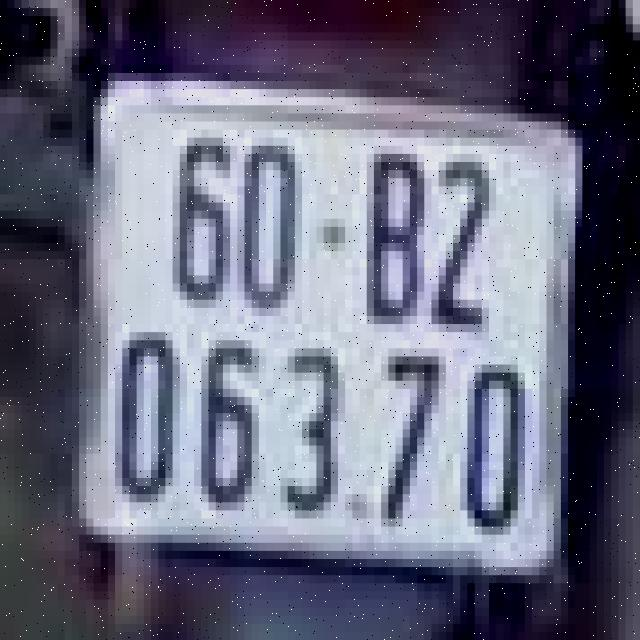0: (241, 134, 306, 328), (457, 352, 521, 547), (112, 316, 176, 510)
2: (432, 146, 504, 340)
3: (270, 336, 342, 523)
6: (184, 324, 262, 510), (158, 134, 230, 312)
7: (363, 340, 450, 535)
B: (356, 138, 421, 332)
